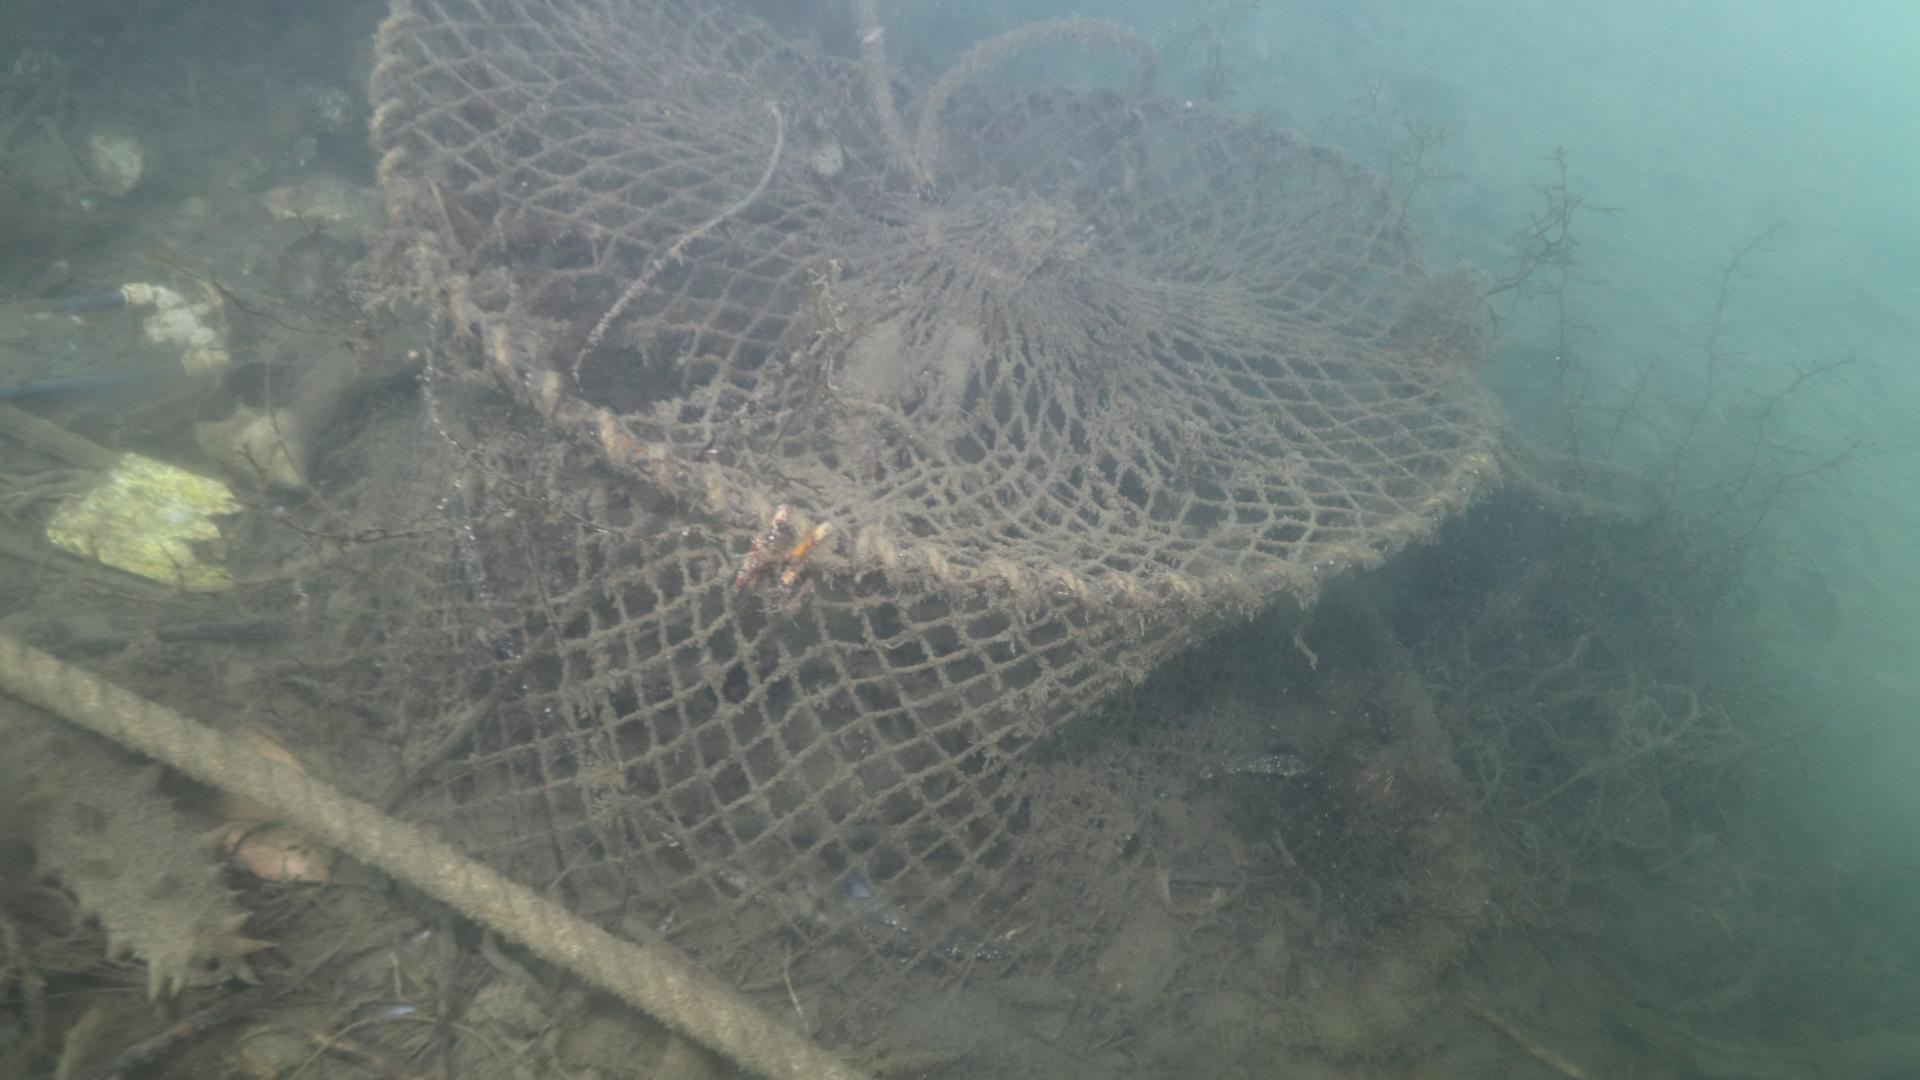circular fish trap: (363, 0, 1506, 992)
rope: (0, 626, 857, 1080)
